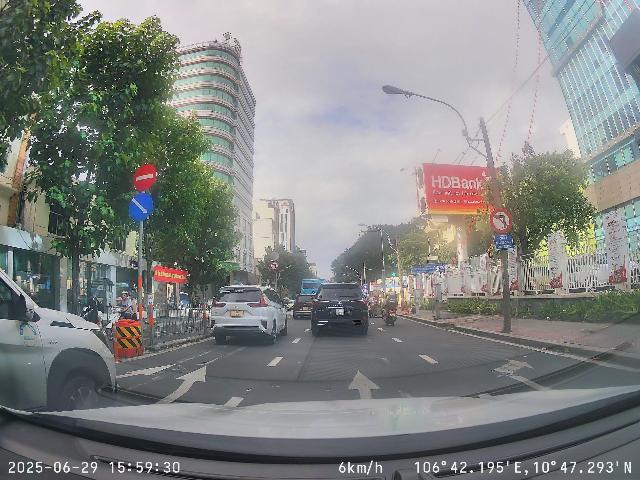102-cam-di-nguoc-chieu: (133, 163, 156, 191)
123a-cam-re-trai: (490, 208, 512, 233), (270, 261, 279, 270)
302a-huong-phai-di-vong-chuong-ngai-vat-1: (129, 193, 153, 221)
